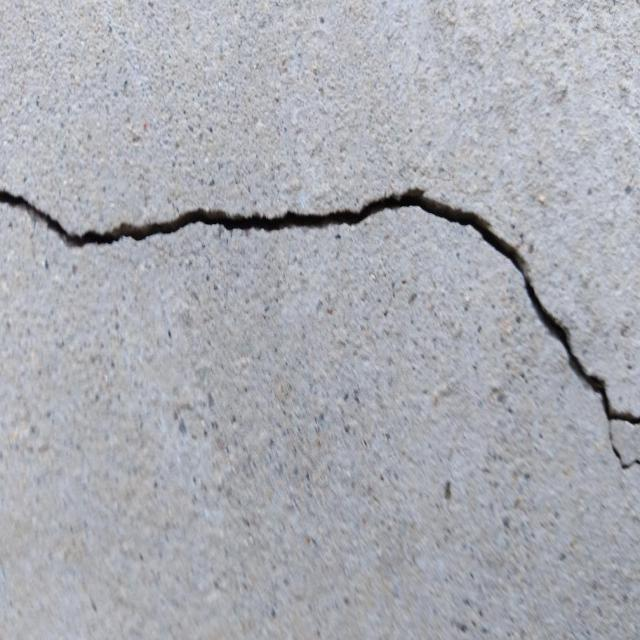multi-branched crack: (0, 183, 639, 471)
